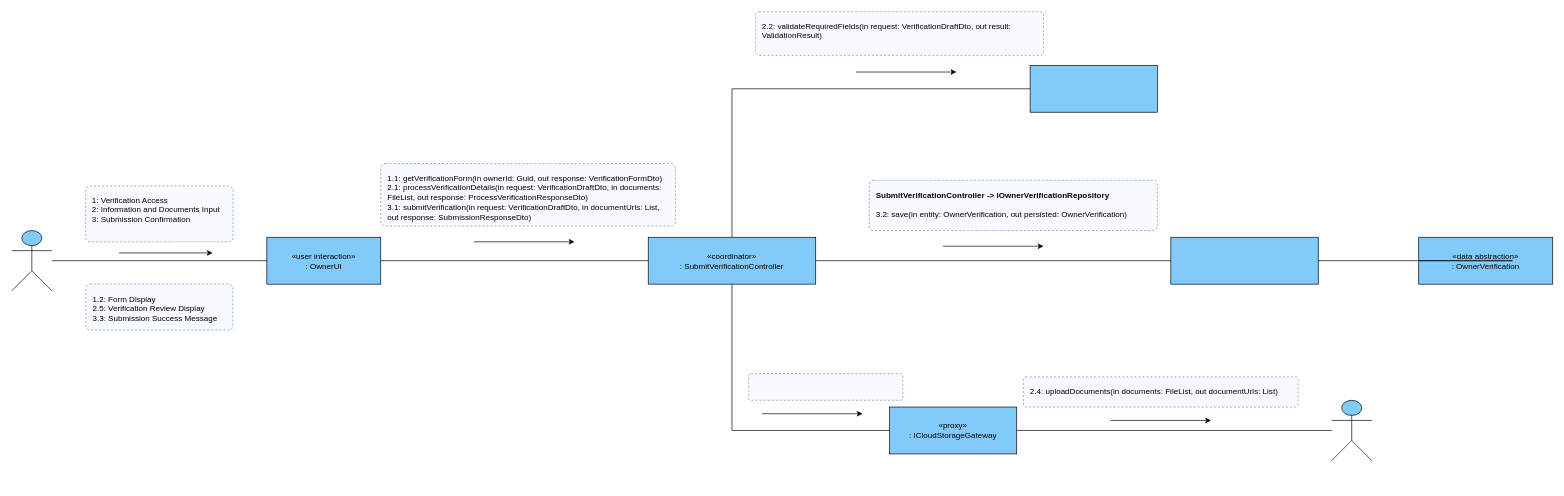
This 1564x496 diagram has some shape labels left out. The shapes that lost their labels are listed below. From the top down, each one's box as (x1, y1, x2, y2) in pixels, then its label:
(1029, 65, 1157, 112): «business logic» : VerificationLogic
(11, 230, 52, 291): Owner
(1170, 237, 1318, 284): «database wrapper» : IOwnerVerificationRepository
(748, 373, 903, 400): 2.3: uploadDocuments(in documents: FileList, out documentUrls: List)
(1331, 400, 1372, 461): Cloud Storage
